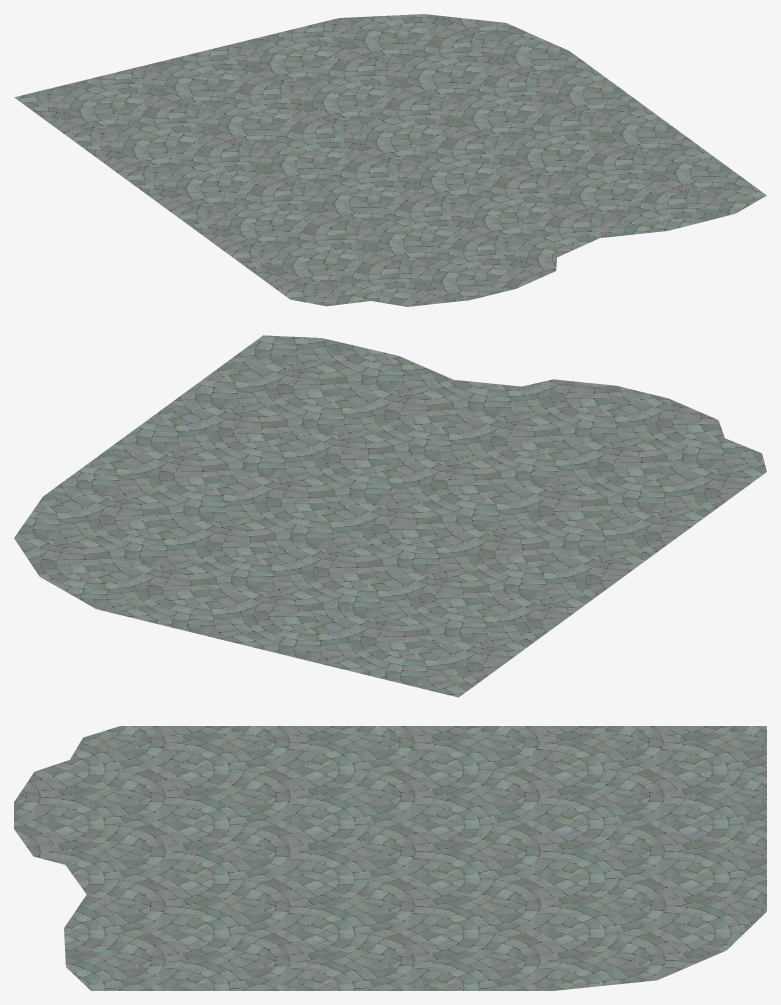
File: Map_011_ground01.FBX
3 views of the same model, one above another, from view 1: azimuth 30°, elevation 25°; view 2: azimuth 150°, elevation 25°; view 3: azimuth 270°, elevation 25° (orthographic). The views are drawn at different scales.
Visible parts, largest first — view 1: Map_011_ground01; view 2: Map_011_ground01; view 3: Map_011_ground01.
Part boxes in pixels (x1,y1,x2,y2): Map_011_ground01: (14, 14, 766, 306); Map_011_ground01: (14, 335, 766, 697); Map_011_ground01: (14, 726, 766, 990).
Bounding box in the file's own units: 2676 × 0.000884 × 3214.
